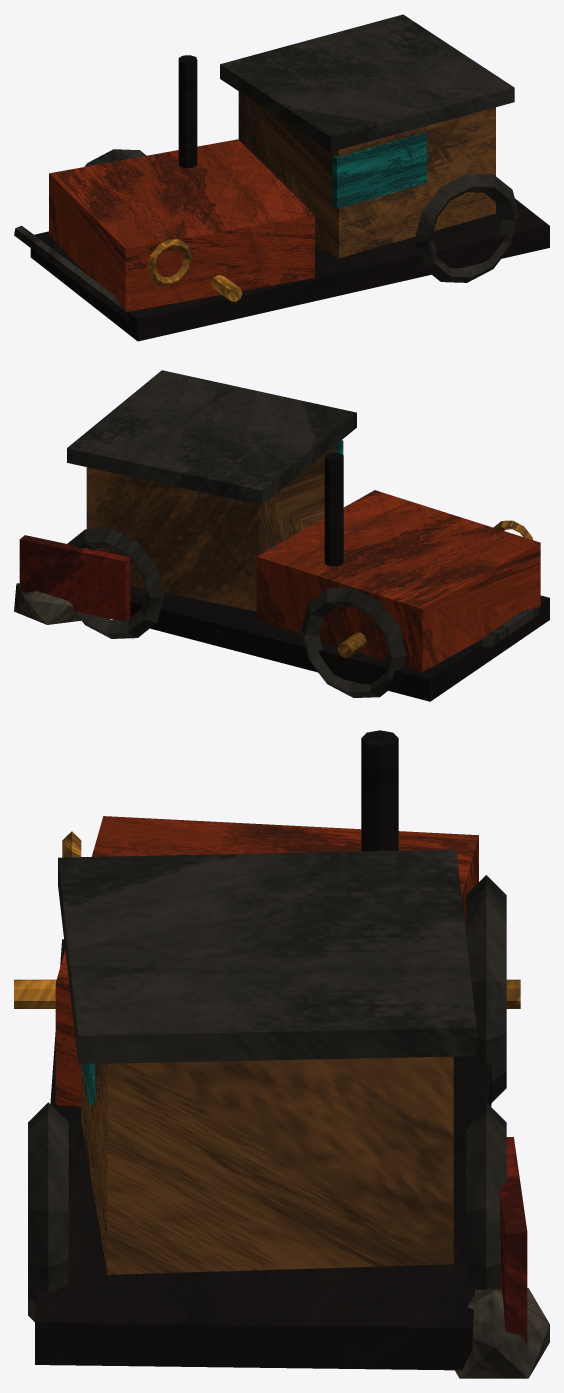
Rendered from flivver-row-east-c.glb.
3 renders of one model, top to bottom at view 1: azimuth 30°, elevation 25°; view 2: azimuth 150°, elevation 25°; view 3: azimuth 270°, elevation 25°, orthographic. The views are drawn at different scales.
Visible parts, largest first — view 1: flivver-row-east-c; view 2: flivver-row-east-c; view 3: flivver-row-east-c.
Part boxes in pixels (x1,y1,x2,y2): flivver-row-east-c: (14, 14, 549, 341); flivver-row-east-c: (14, 370, 549, 701); flivver-row-east-c: (14, 730, 549, 1378).
Bounding box in the file's own units: 6.45 × 2.85 × 3.43.
1 material, 1 textured.
